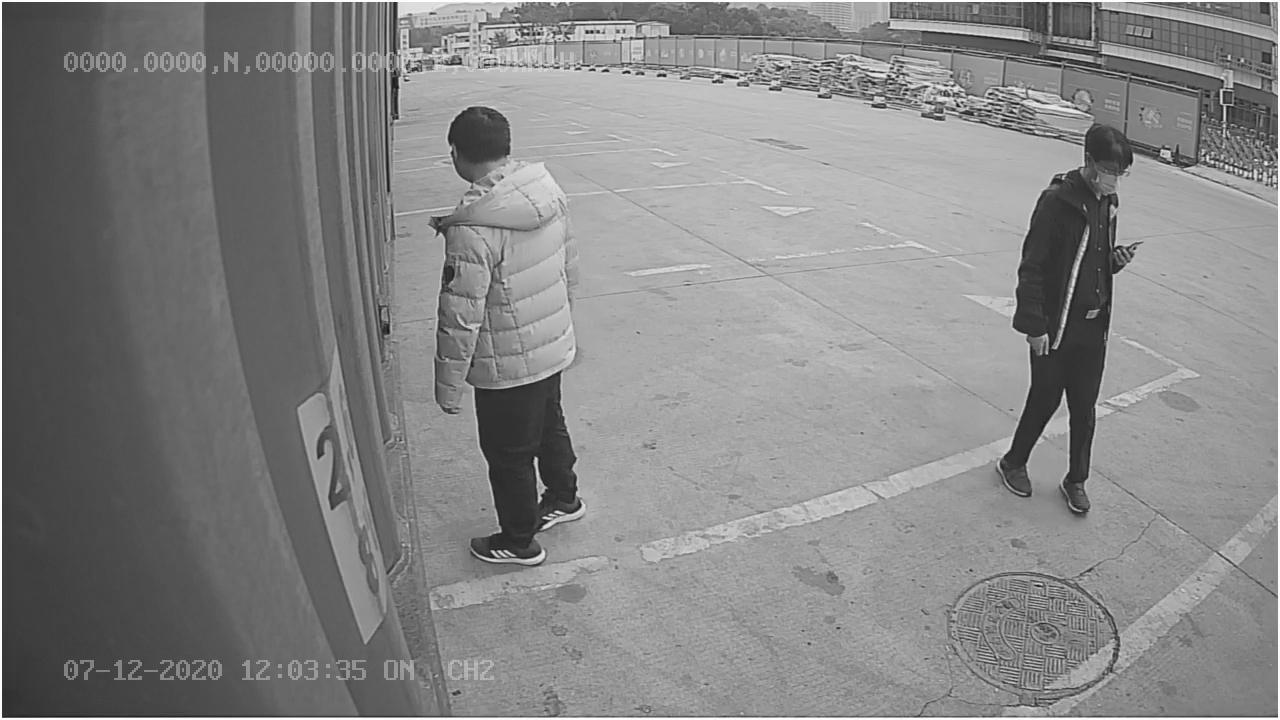person: (424, 93, 592, 562), (995, 113, 1138, 517)
